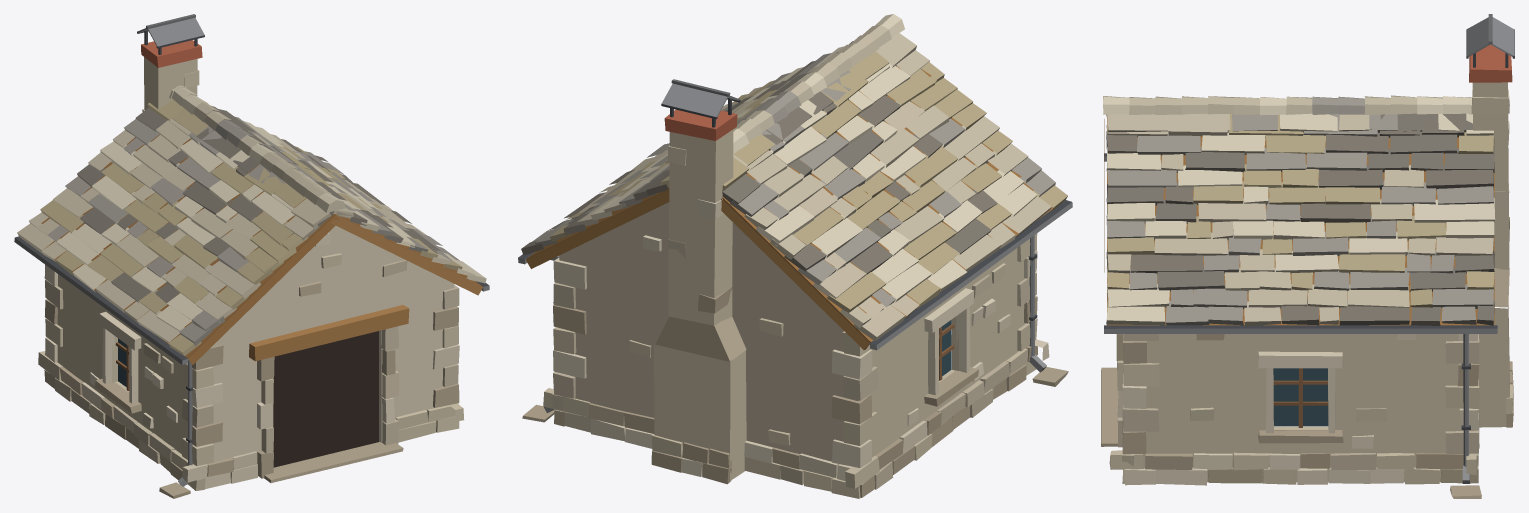
File: forge.glb
The picture shows the model from 3 angles, left to right: view 1: azimuth 30°, elevation 25°; view 2: azimuth 150°, elevation 25°; view 3: azimuth 270°, elevation 25°; orthographic projection. The views are drawn at different scales.
Visible parts, largest first — view 1: forge; view 2: forge; view 3: forge.
Boxes of the visible parts, <box> form: forge: <box>14,14,489,498</box>; forge: <box>518,14,1072,498</box>; forge: <box>1101,14,1514,498</box>.
Bounding box in the file's own units: 7.38 × 7.28 × 7.15.
